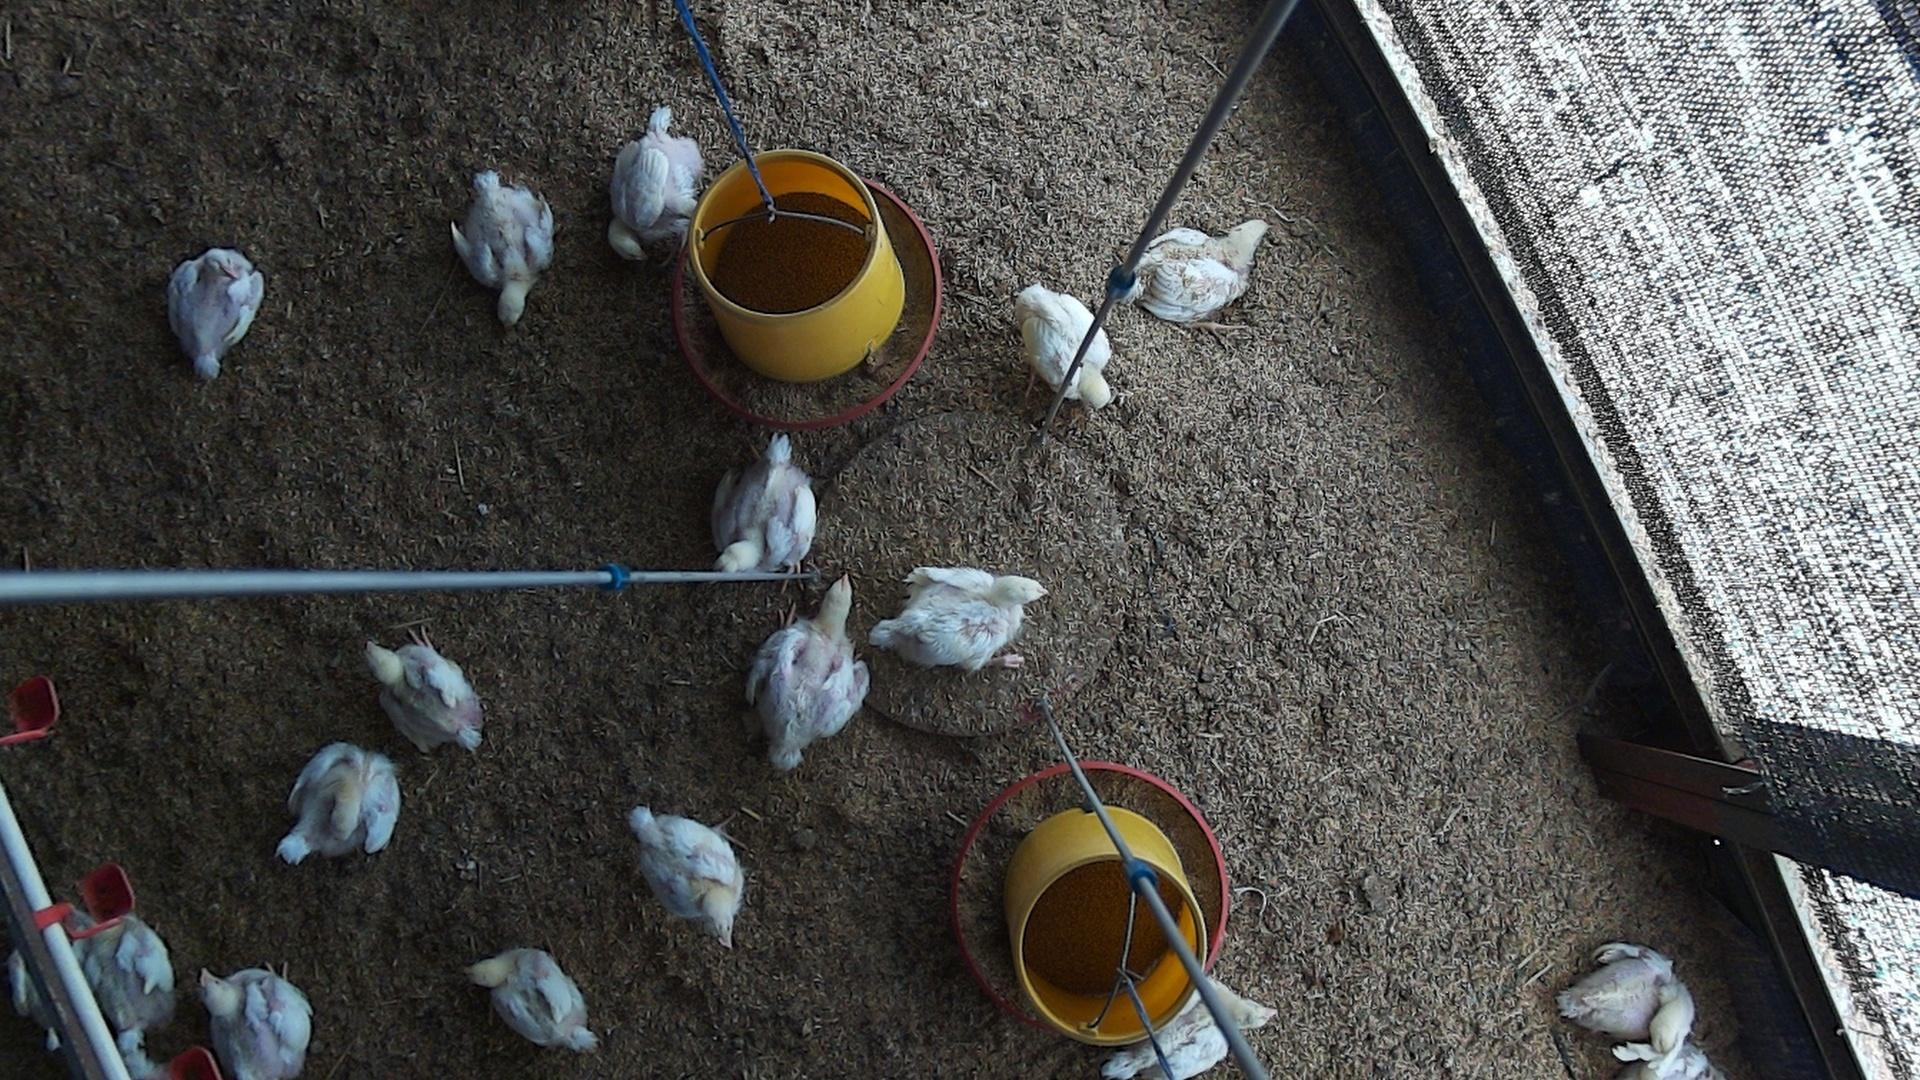ayam_broiler: (750, 576, 868, 769), (46, 910, 175, 1080), (869, 566, 1044, 669), (1110, 977, 1278, 1079), (628, 806, 745, 948), (451, 169, 555, 323), (277, 742, 401, 864), (612, 104, 705, 257), (1561, 944, 1692, 1054), (713, 434, 816, 572), (1134, 218, 1267, 323), (364, 640, 483, 753), (469, 948, 599, 1050), (198, 968, 311, 1080), (170, 247, 265, 376), (1018, 284, 1112, 413)
